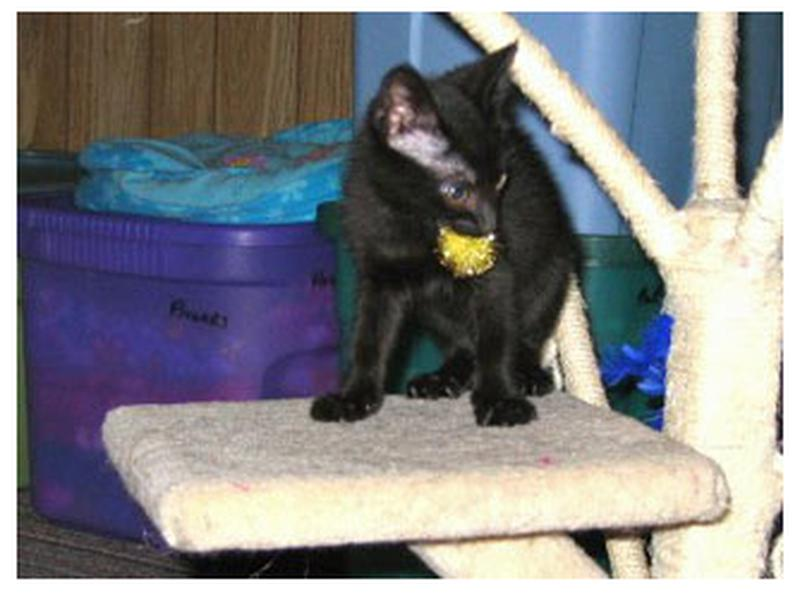cat: (292, 42, 581, 435)
